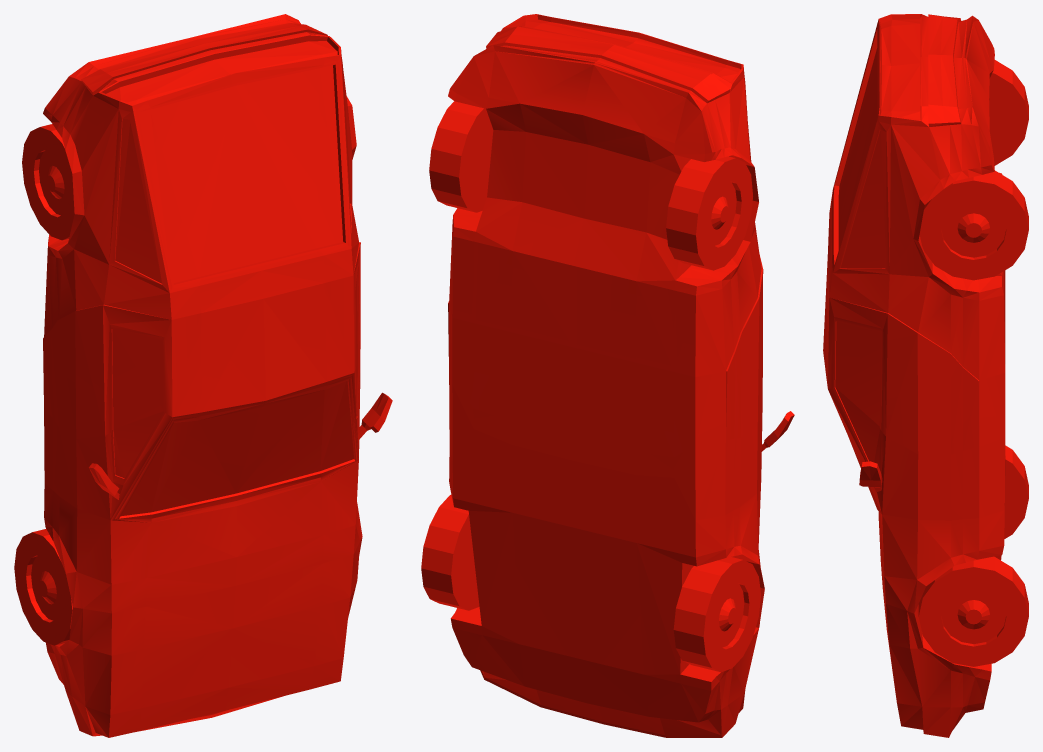
Rendered from Car.fbx.
The picture shows the model from 3 angles, left to right: view 1: azimuth 30°, elevation 25°; view 2: azimuth 150°, elevation 25°; view 3: azimuth 270°, elevation 25°; orthographic projection. The views are drawn at different scales.
Visible parts, largest first — view 1: CAR.030; view 2: CAR.030; view 3: CAR.030.
Part boxes in pixels (box(x1,y1,x2,y2)): CAR.030: box(14, 14, 392, 737); CAR.030: box(421, 14, 794, 737); CAR.030: box(823, 14, 1028, 737).
Bounding box in the file's own units: 426 × 927 × 269.
